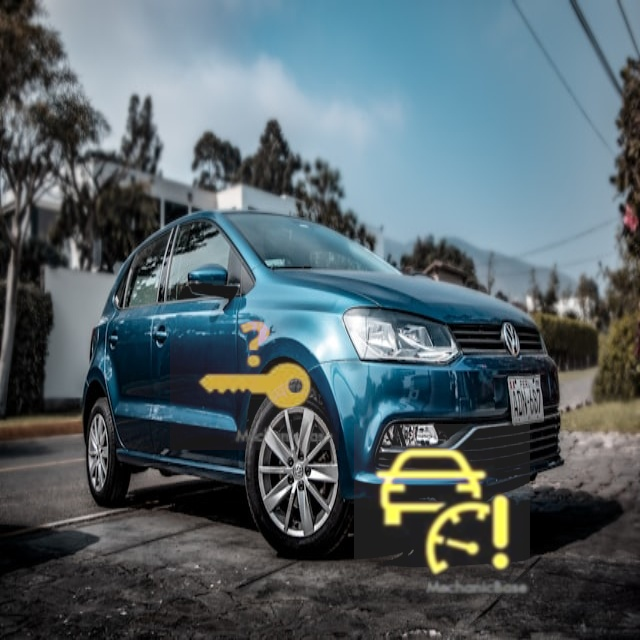symbol: (354, 424, 530, 600), (170, 281, 339, 450)
